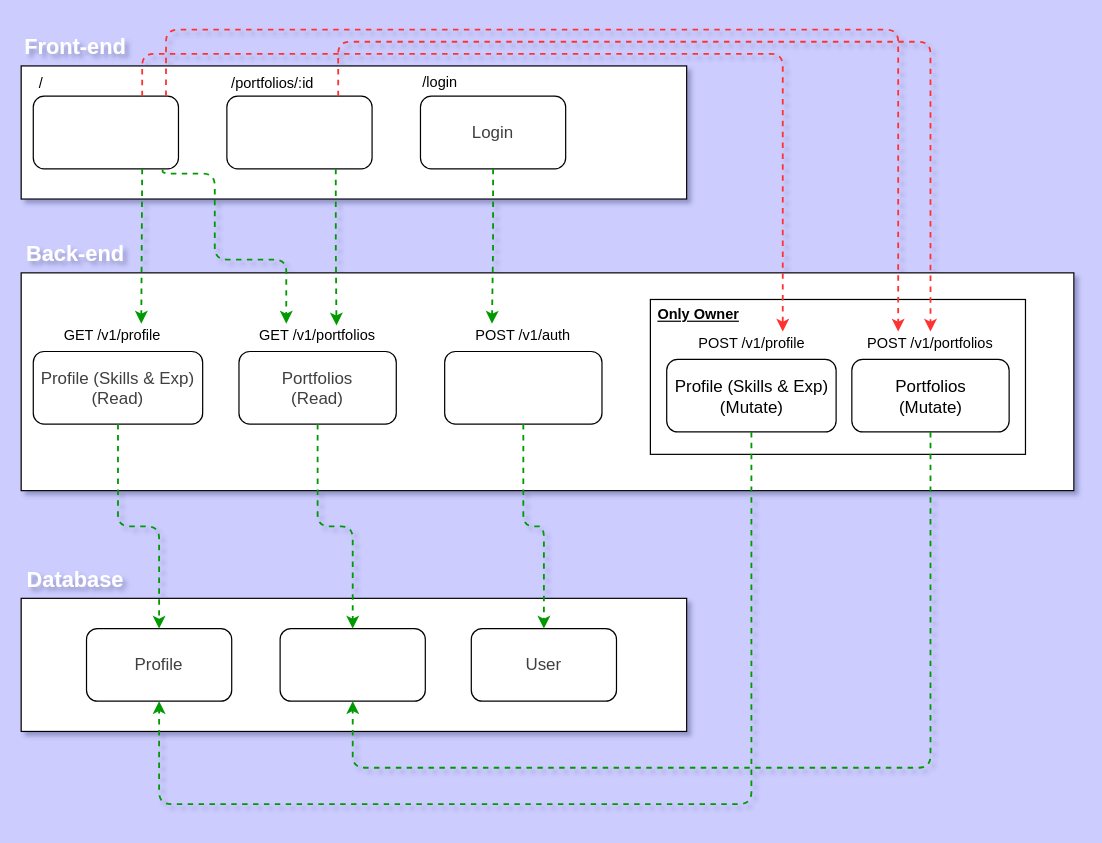
Some shapes in this 1102 by 843 pixel diagram are drawn without their labels. The centre of each missing label's shape, as x and y in pixels:
"Authentication" belongs at pixel 522 387.
"Home" belongs at pixel 105 132.
"Portfolio" belongs at pixel 299 132.
"Portfolios" belongs at pixel 352 664.
